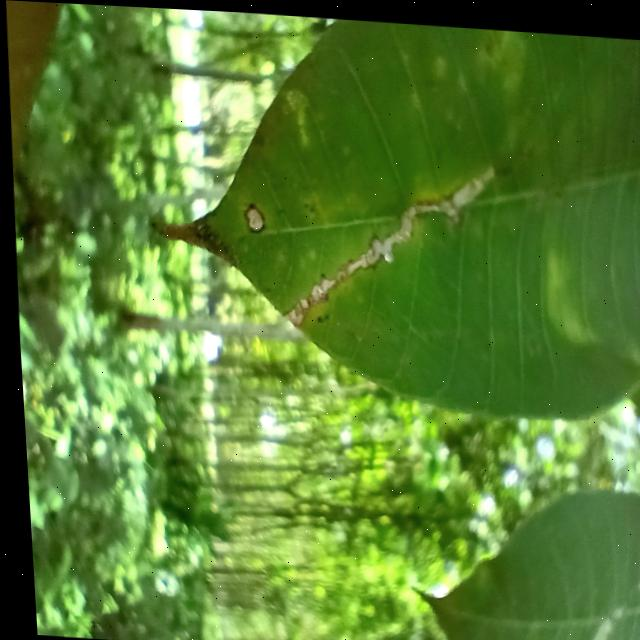Colletotrichum: (240, 197, 263, 230)
